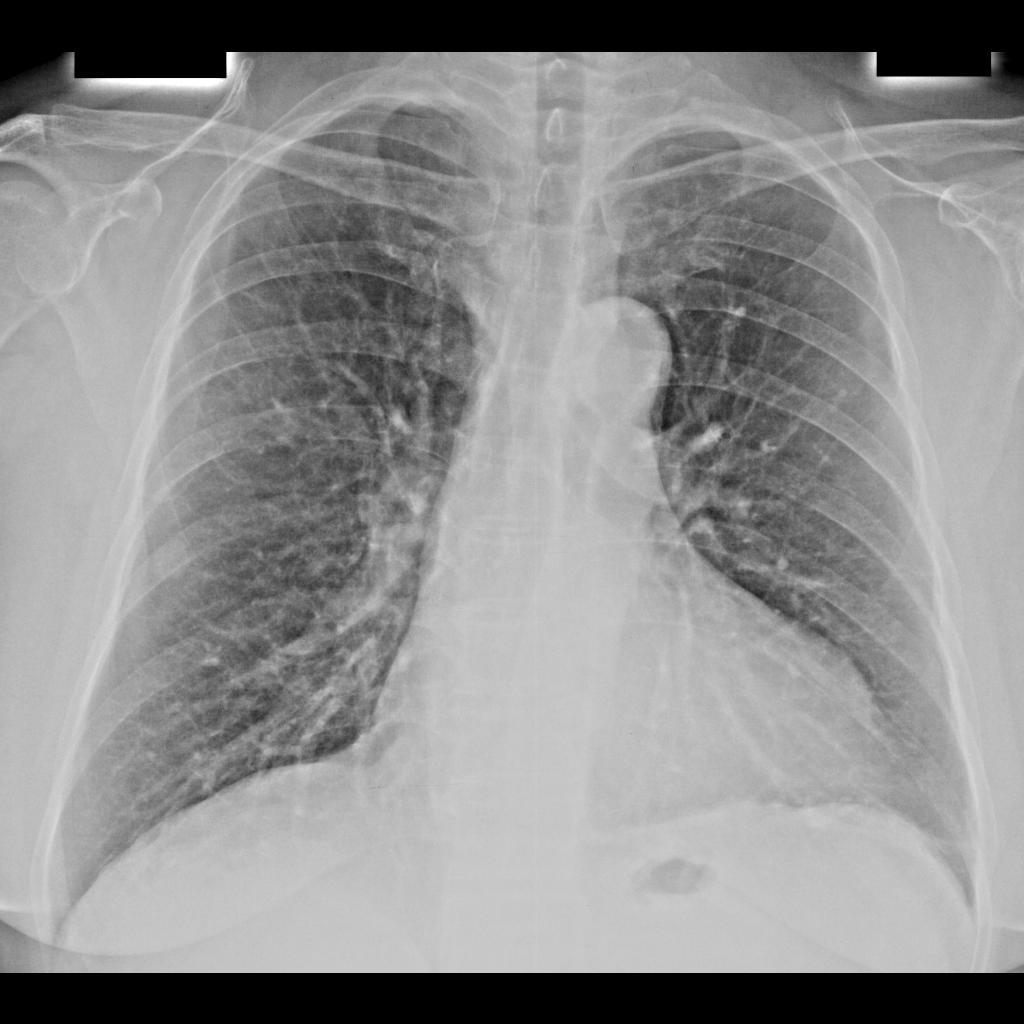Nodule: (148, 544, 190, 585)
